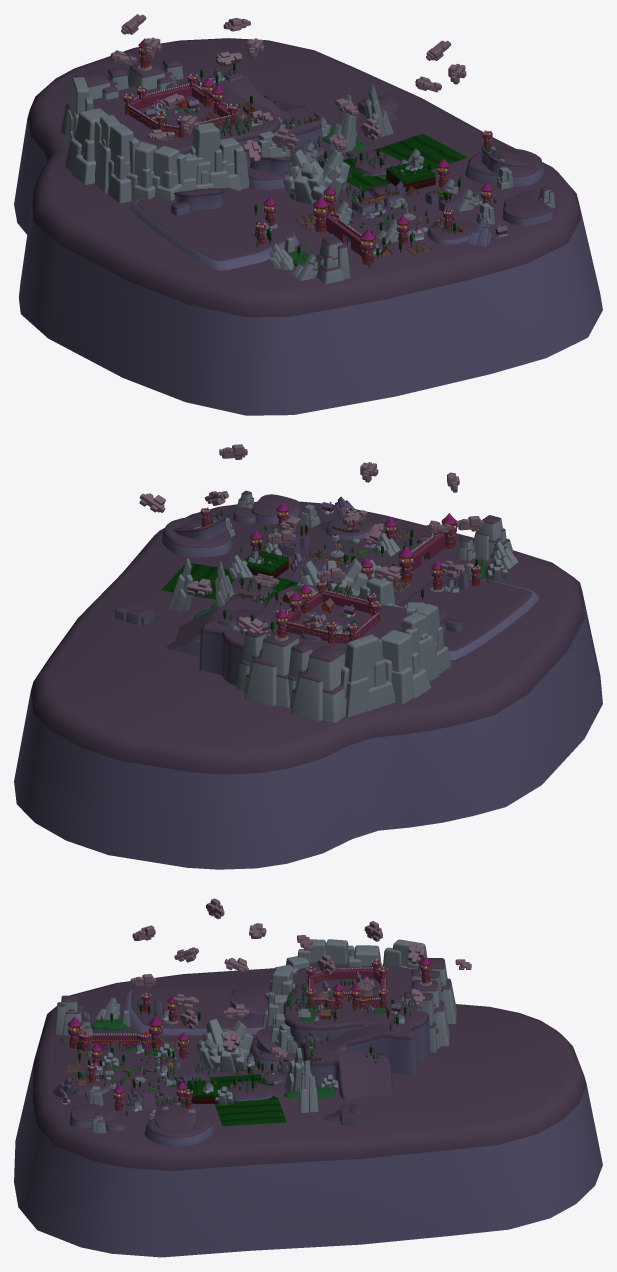
Rendered from fpsmaplowpoly.glb.
3 views of the same model, one above another, from view 1: azimuth 30°, elevation 25°; view 2: azimuth 150°, elevation 25°; view 3: azimuth 270°, elevation 25° (orthographic). The views are drawn at different scales.
Parts seen in each view (by area): view 1: Hill_3 (×3), Hill_1, Island_1, Platform_W_1, Rocks_1 (5), Rocks_1 (7), Rocks_1 (1), Rocks_1 (3), Hill_4 (2), Rocks_1_2 (4), Rocks_1 (4), Rocks_1 (6) (+16 smaller); view 2: Hill_3 (×2), Island_1, Hill_1, Rocks_1 (8), Rocks_1_2, Rocks_1_2 (2), Rocks_1 (7), Hill_4 (2), Rocks_1 (6), Rocks_1_2 (4), Platform_W_1, Rocks_1 (5) (+8 smaller); view 3: Hill_3 (×3), Island_1, Hill_1, Platform_W_1, Hill_4 (2), Clif_2 (2), Rocks_1_2, Rocks_1_2 (2), Clif_2, Rocks_3 2 (4), Rocks_1 (8), Rocks_1_2 (4) (+10 smaller).
Boxes of the visible parts, box(x1,y1,x2,y2) form: Hill_3 (×3): box(14, 38, 602, 415); Hill_1: box(130, 187, 298, 270); Island_1: box(92, 67, 337, 166); Platform_W_1: box(344, 134, 467, 191); Rocks_1 (5): box(107, 124, 139, 203); Rocks_1 (7): box(65, 108, 108, 184); Rocks_1 (1): box(190, 122, 230, 188); Rocks_1 (3): box(152, 146, 186, 200); Hill_4 (2): box(465, 148, 544, 186); Rocks_1_2 (4): box(316, 236, 350, 283); Rocks_1 (4): box(127, 141, 157, 202); Rocks_1 (6): box(94, 115, 120, 193); Hill_3 (×2): box(14, 494, 602, 869); Island_1: box(166, 585, 411, 685); Hill_1: box(398, 577, 538, 660); Rocks_1 (8): box(340, 634, 395, 717); Rocks_1_2: box(291, 646, 346, 722); Rocks_1_2 (2): box(244, 631, 299, 707); Rocks_1 (7): box(380, 630, 431, 703); Hill_4 (2): box(161, 516, 231, 557); Rocks_1 (6): box(401, 612, 439, 681); Rocks_1_2 (4): box(473, 515, 513, 560); Platform_W_1: box(161, 563, 297, 600); Rocks_1 (5): box(416, 603, 451, 673); Hill_3 (×3): box(14, 968, 602, 1257); Island_1: box(283, 963, 429, 1099); Hill_1: box(123, 987, 269, 1035); Platform_W_1: box(208, 1074, 286, 1126); Hill_4 (2): box(144, 1112, 213, 1146); Clif_2 (2): box(154, 1101, 197, 1130); Rocks_1_2: box(411, 958, 456, 1023); Rocks_1_2 (2): box(404, 980, 449, 1046); Clif_2: box(230, 988, 267, 1018); Rocks_3 2 (4): box(298, 1060, 318, 1112); Rocks_1 (8): box(383, 939, 427, 969); Rocks_1_2 (4): box(53, 995, 82, 1035).
Size of what is drawn, in the model's own units: 117 by 52.77 by 142.
Materials: 21 (2 with a texture image).
